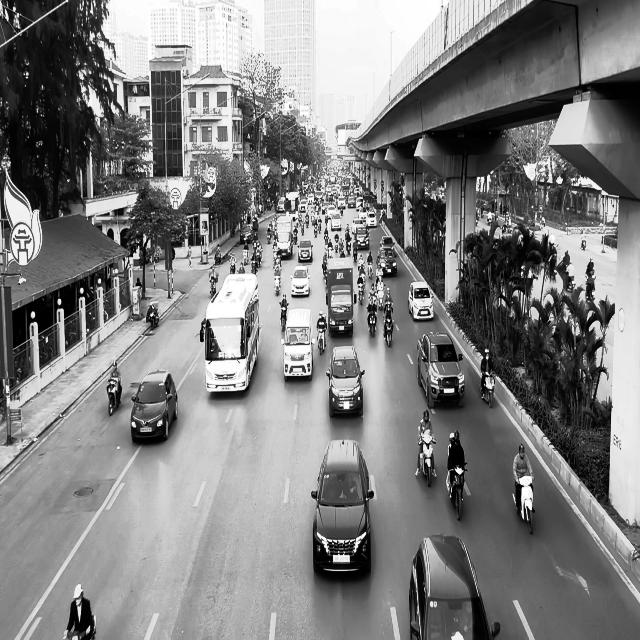bus: (203, 272, 260, 393)
car: (409, 533, 500, 639), (310, 439, 376, 574), (416, 331, 465, 409), (130, 369, 178, 443), (326, 345, 364, 417), (280, 308, 314, 382), (408, 281, 434, 321), (290, 265, 310, 297), (297, 239, 313, 262)
motorbike: (514, 475, 535, 534), (446, 462, 467, 520), (418, 432, 436, 487), (480, 370, 495, 407), (107, 378, 121, 416), (584, 272, 596, 302), (316, 325, 326, 355), (148, 303, 158, 329), (208, 271, 218, 297), (279, 303, 288, 331)
